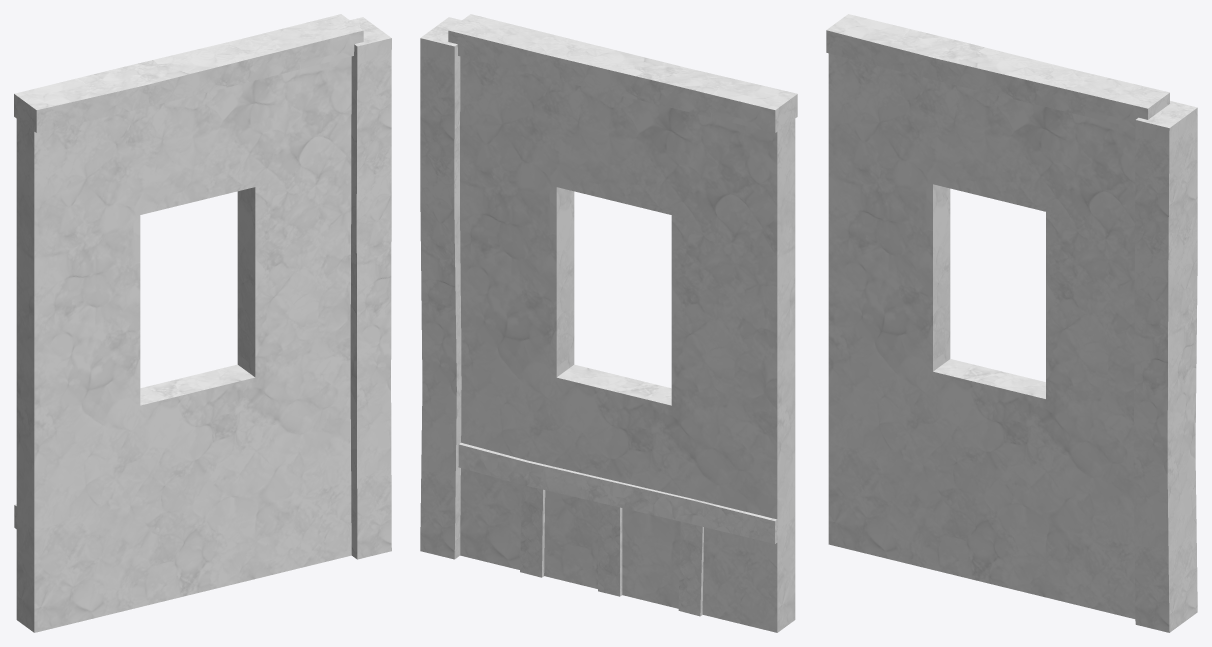
Rendered from ARC0110012.fbx.
3 renders of one model, left to right at view 1: azimuth 30°, elevation 25°; view 2: azimuth 150°, elevation 25°; view 3: azimuth 330°, elevation 25°, orthographic.
Visible parts, largest first — view 1: smARC0110012; view 2: smARC0110012; view 3: smARC0110012.
Boxes of the visible parts, x1,y1,x2,y2 form: smARC0110012: [14, 14, 391, 632]; smARC0110012: [420, 14, 797, 632]; smARC0110012: [826, 14, 1197, 632].
Size of the model in its own units: 246 by 350 by 35.58.
Materials: 1 (1 with a texture image).
